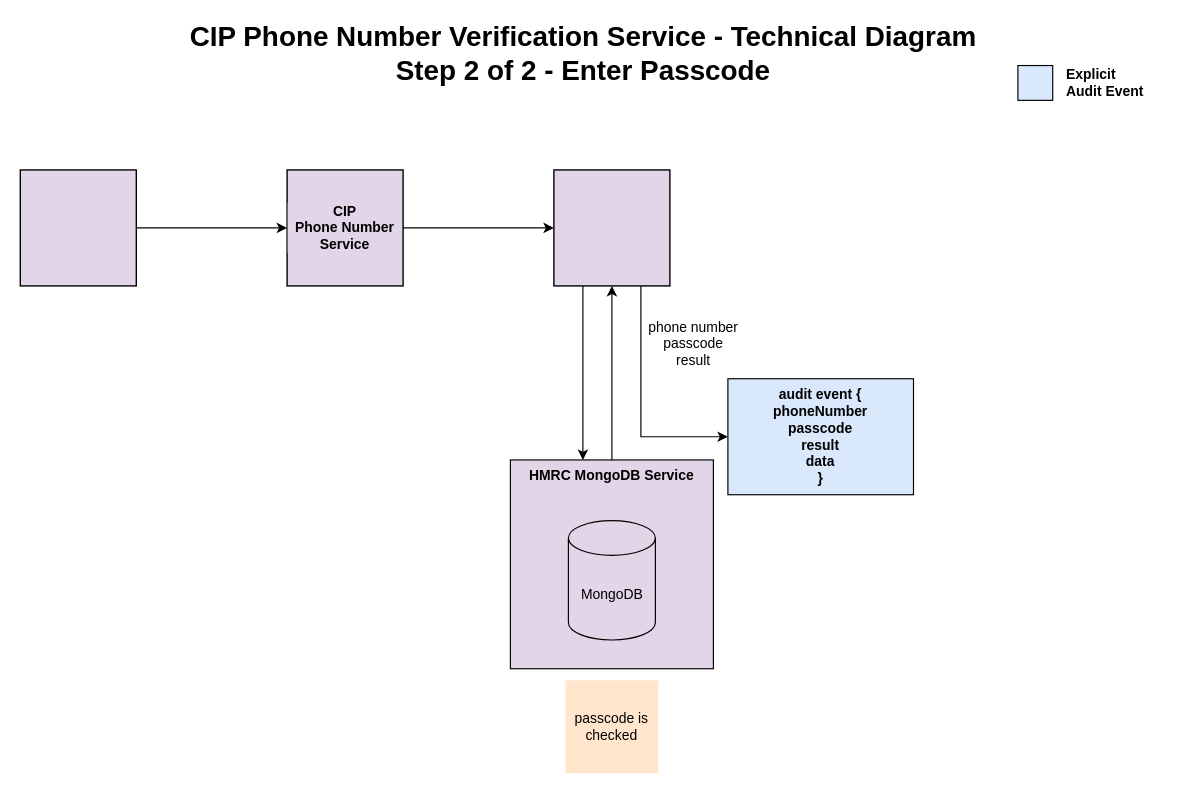
This 1177x792 diagram has some shape labels left out. Each missing label, with the centre of its shape:
"CIP Phone Number Verification Service" belongs at point 611,227.
"Client" belongs at point 77,227.
